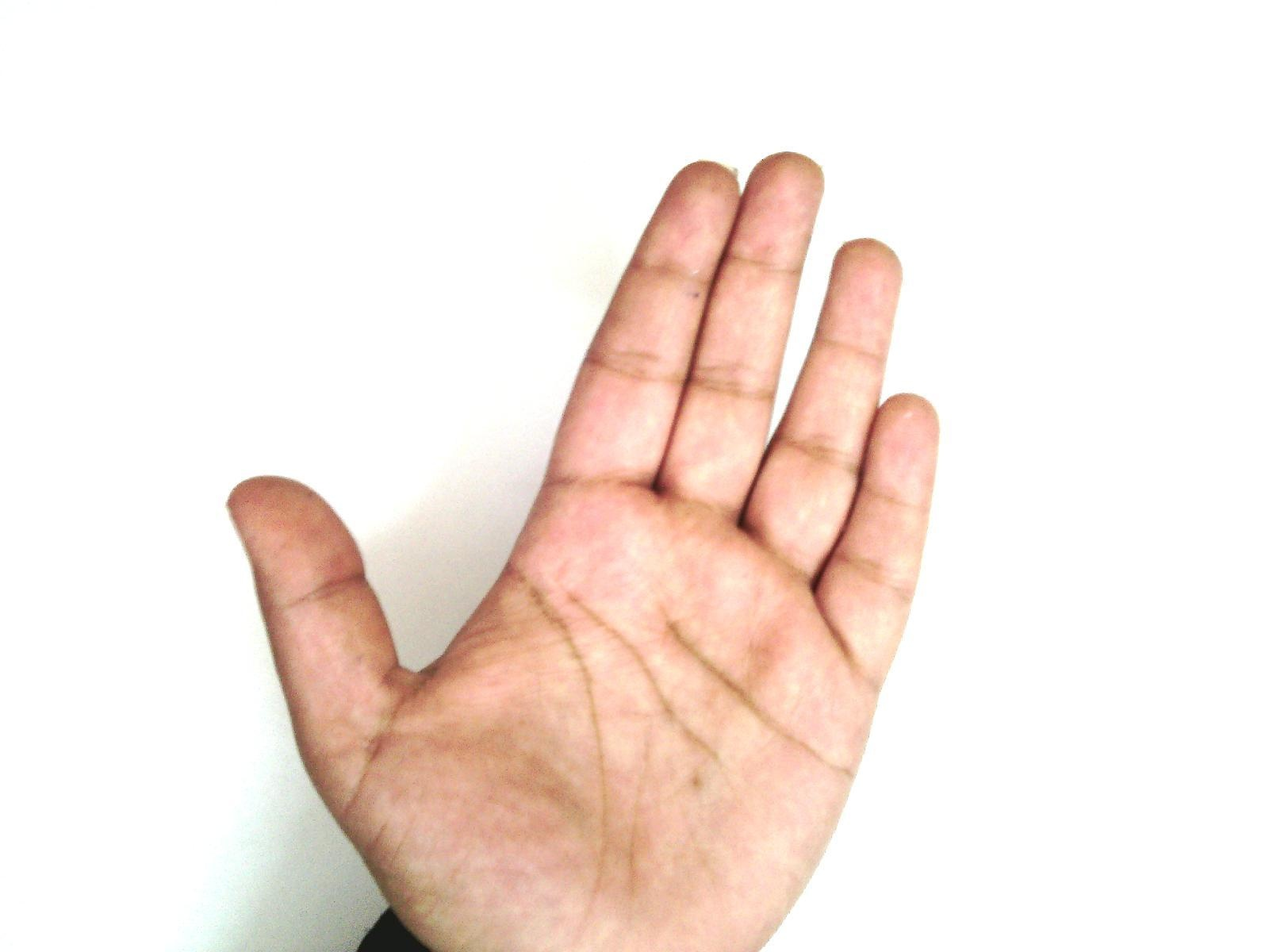open_palm: (224, 151, 944, 951)
